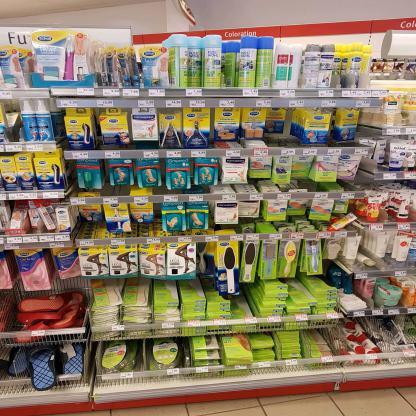Void: (274, 108, 293, 147)
